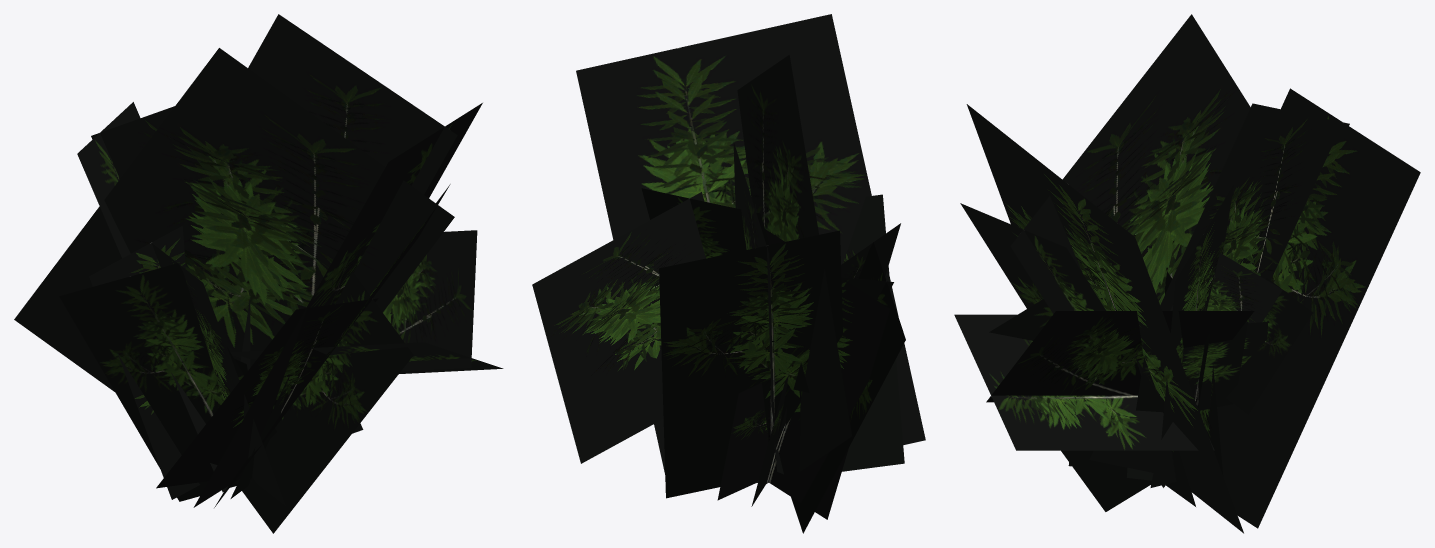
Rendered from oleander_spring_winter.glb.
3 views of the same model, side by side, from view 1: azimuth 30°, elevation 25°; view 2: azimuth 150°, elevation 25°; view 3: azimuth 270°, elevation 25° (orthographic). The views are drawn at different scales.
Visible parts, largest first — view 1: Oleander01; view 2: Oleander01; view 3: Oleander01.
Boxes of the visible parts, box(x1,y1,x2,y2) form: Oleander01: box(14, 14, 503, 533); Oleander01: box(532, 14, 925, 533); Oleander01: box(954, 14, 1420, 533).
Size of the model in its own units: 78.81 by 92.56 by 79.56.
Materials: 1 (1 with a texture image).
